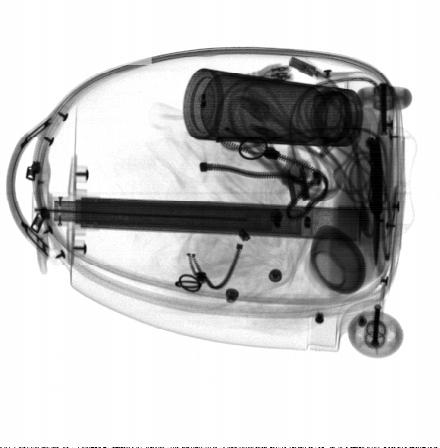Knife: (366, 136, 383, 269)
